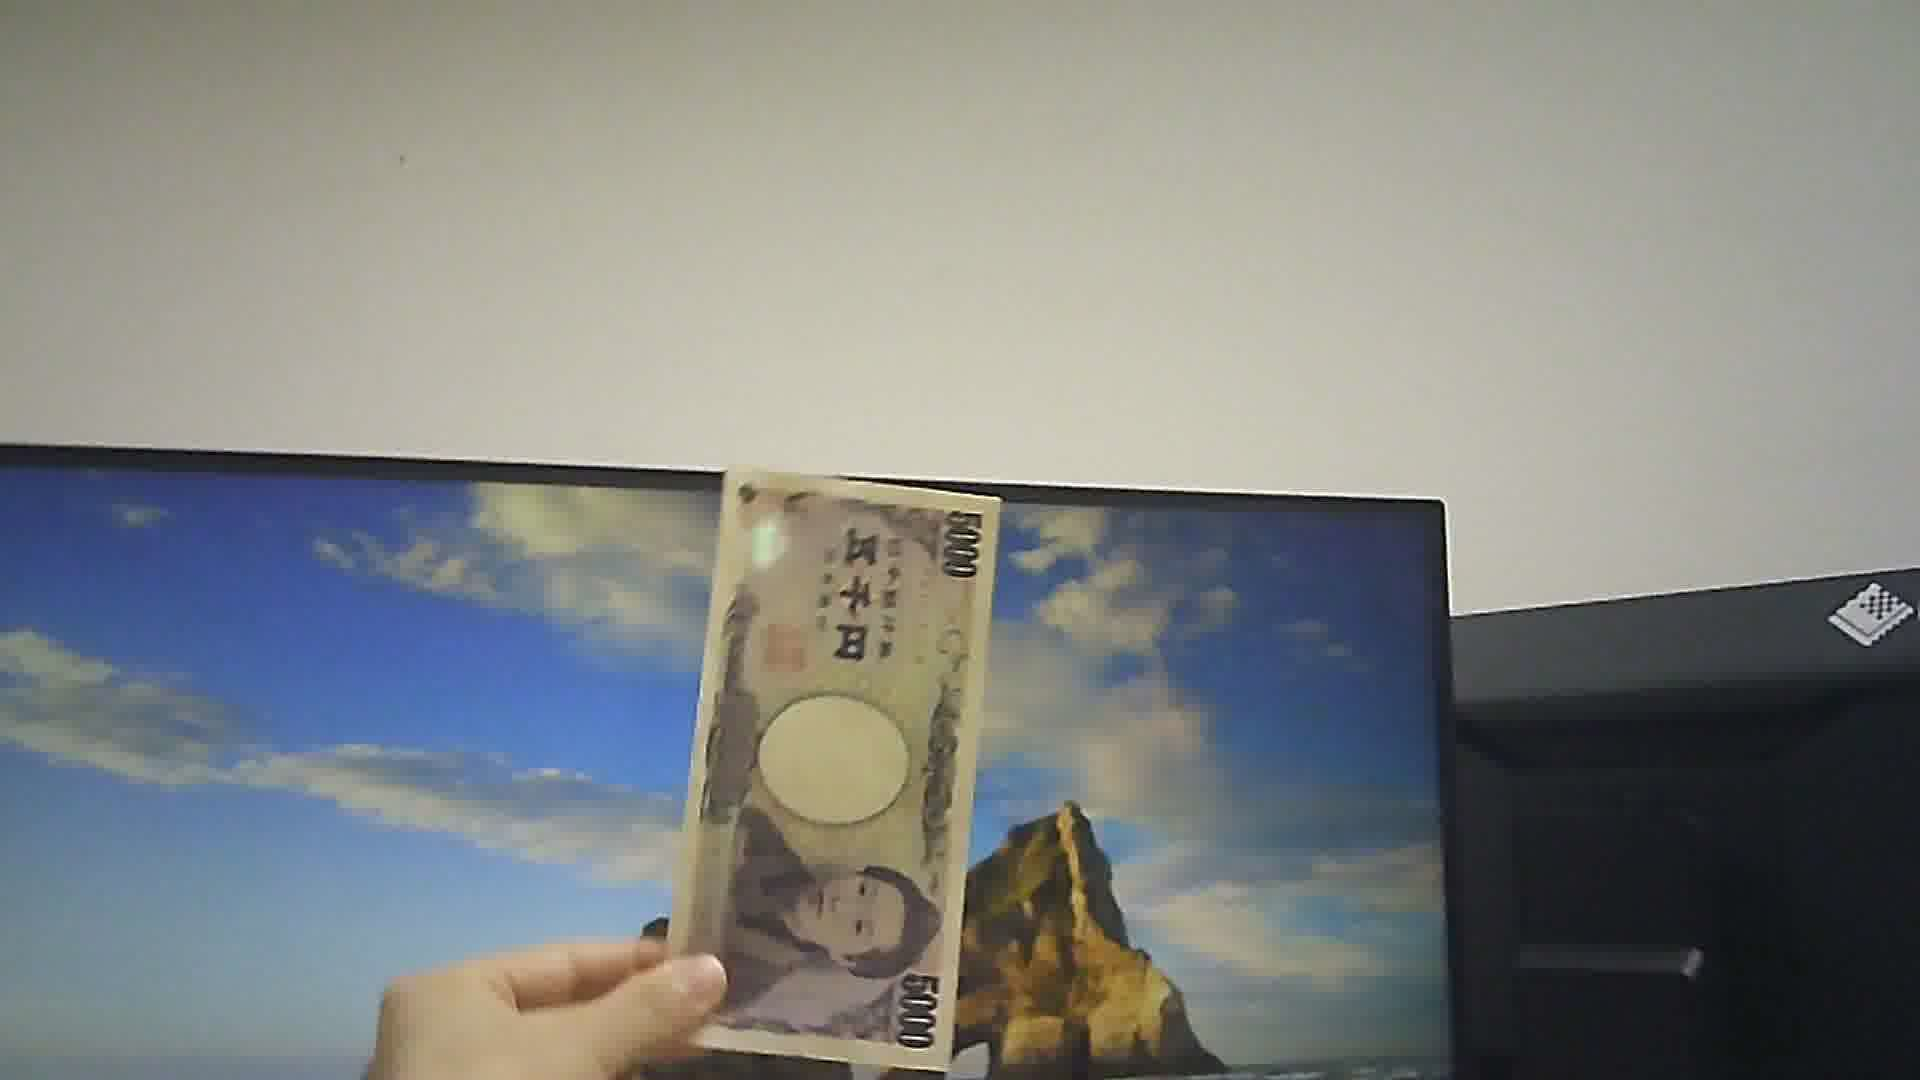5,000 Yen: (669, 451, 986, 1079)
